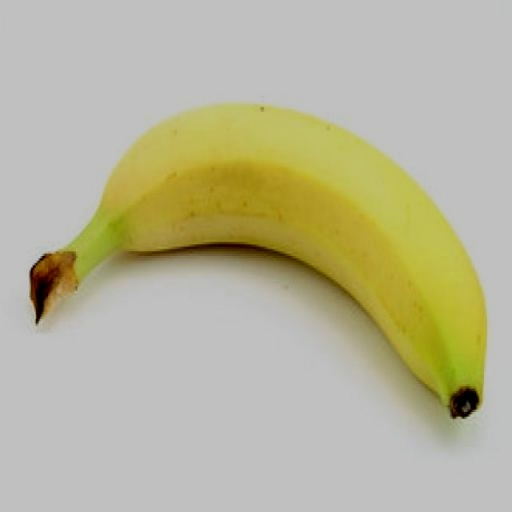fruit: (31, 104, 485, 416)
